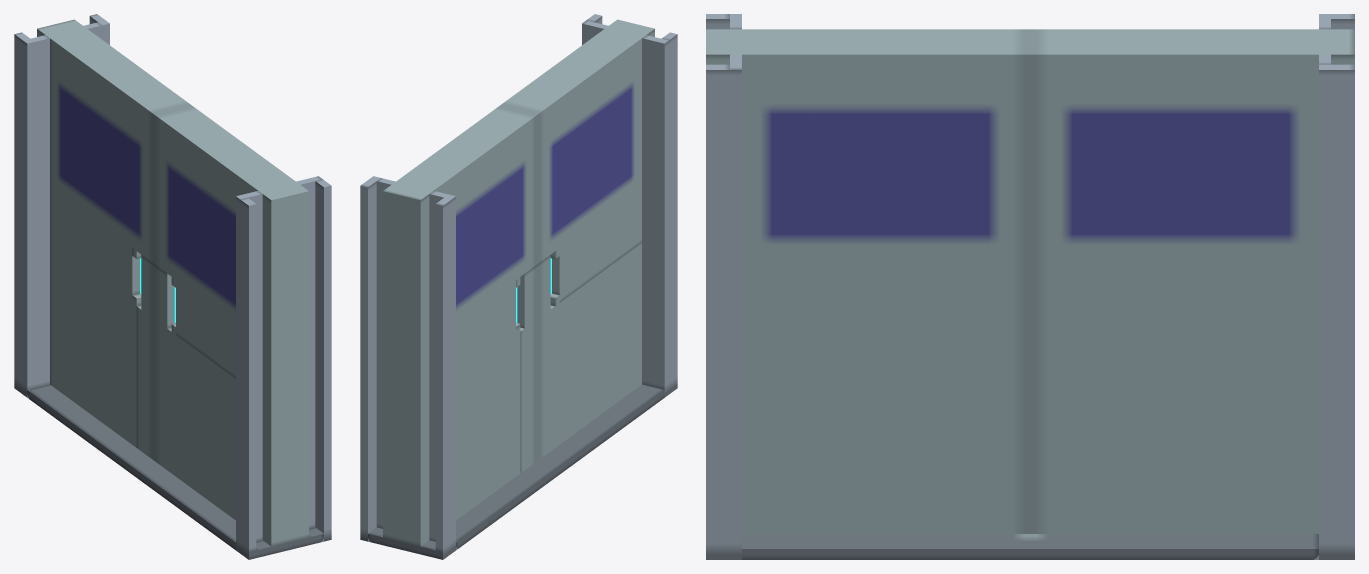
Rendered from 2_dzwi_podwuje.dae.
3 views of the same model, side by side, from view 1: azimuth 30°, elevation 25°; view 2: azimuth 150°, elevation 25°; view 3: azimuth 270°, elevation 25° (orthographic). The views are drawn at different scales.
Visible parts, largest first — view 1: Content; view 2: Content; view 3: Content.
Part boxes in pixels (<box>): Content: <box>14,14,331,559</box>; Content: <box>360,14,677,559</box>; Content: <box>706,14,1354,559</box>.
Size of the model in its own units: 11 by 45 by 54.
1 material, 1 textured.
